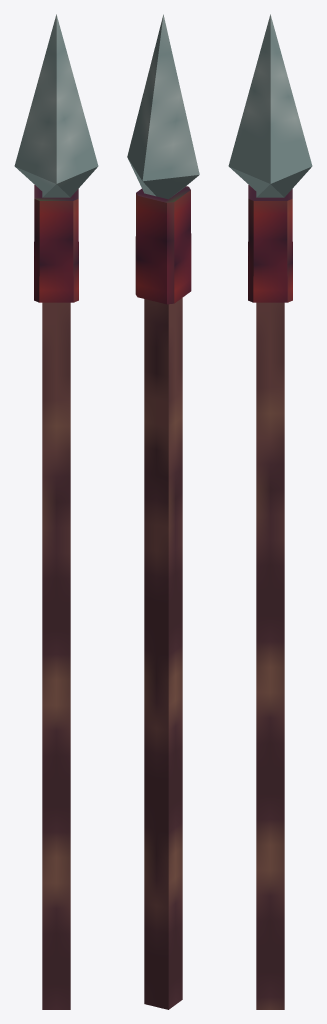
The model's file is Spear.fbx.
The picture shows the model from 3 angles, left to right: view 1: azimuth 90°, elevation 25°; view 2: azimuth 150°, elevation 25°; view 3: azimuth 270°, elevation 25°; orthographic projection.
Parts seen in each view (by area): view 1: Cube.011; view 2: Cube.011; view 3: Cube.011.
Boxes of the visible parts, left/top/right/bottom form: Cube.011: left=14, top=14, right=98, bottom=1009; Cube.011: left=127, top=14, right=199, bottom=1009; Cube.011: left=228, top=14, right=312, bottom=1009.
Size of the model in its own units: 0.1875 by 0.1875 by 2.44.
